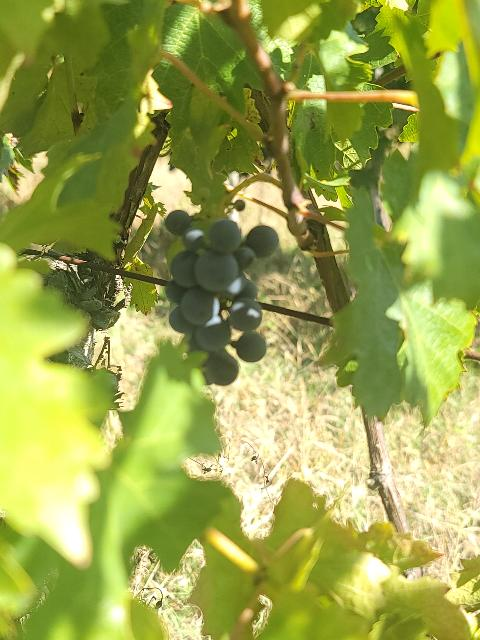grapes: (165, 210, 279, 385)
